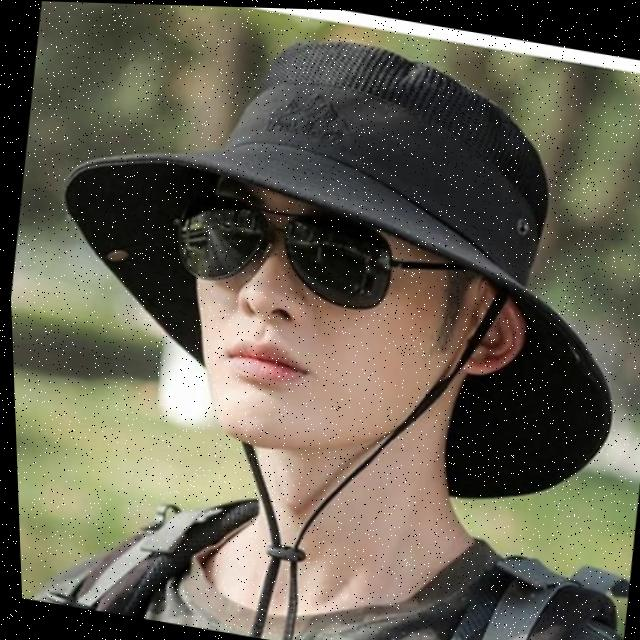illegal_helmet: (1, 0, 640, 537)
